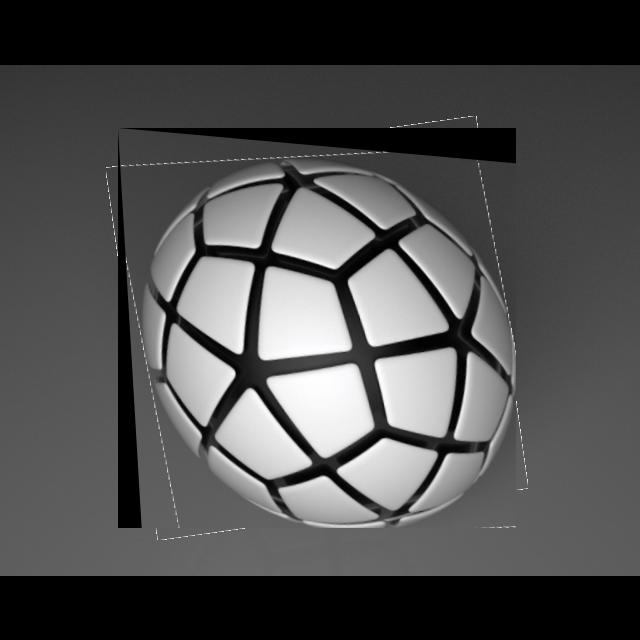Football: (118, 128, 516, 528)
